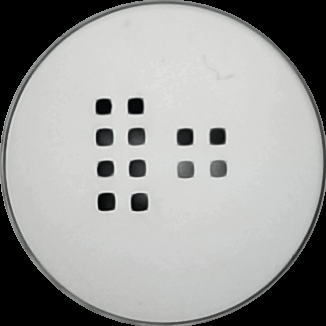检查点: (174, 125, 196, 149), (128, 192, 152, 212), (124, 96, 147, 116), (126, 126, 147, 147), (95, 158, 116, 179), (126, 157, 147, 178), (207, 127, 229, 147), (96, 192, 118, 212), (94, 127, 114, 148), (175, 161, 196, 180), (95, 97, 114, 117), (209, 158, 228, 178)
